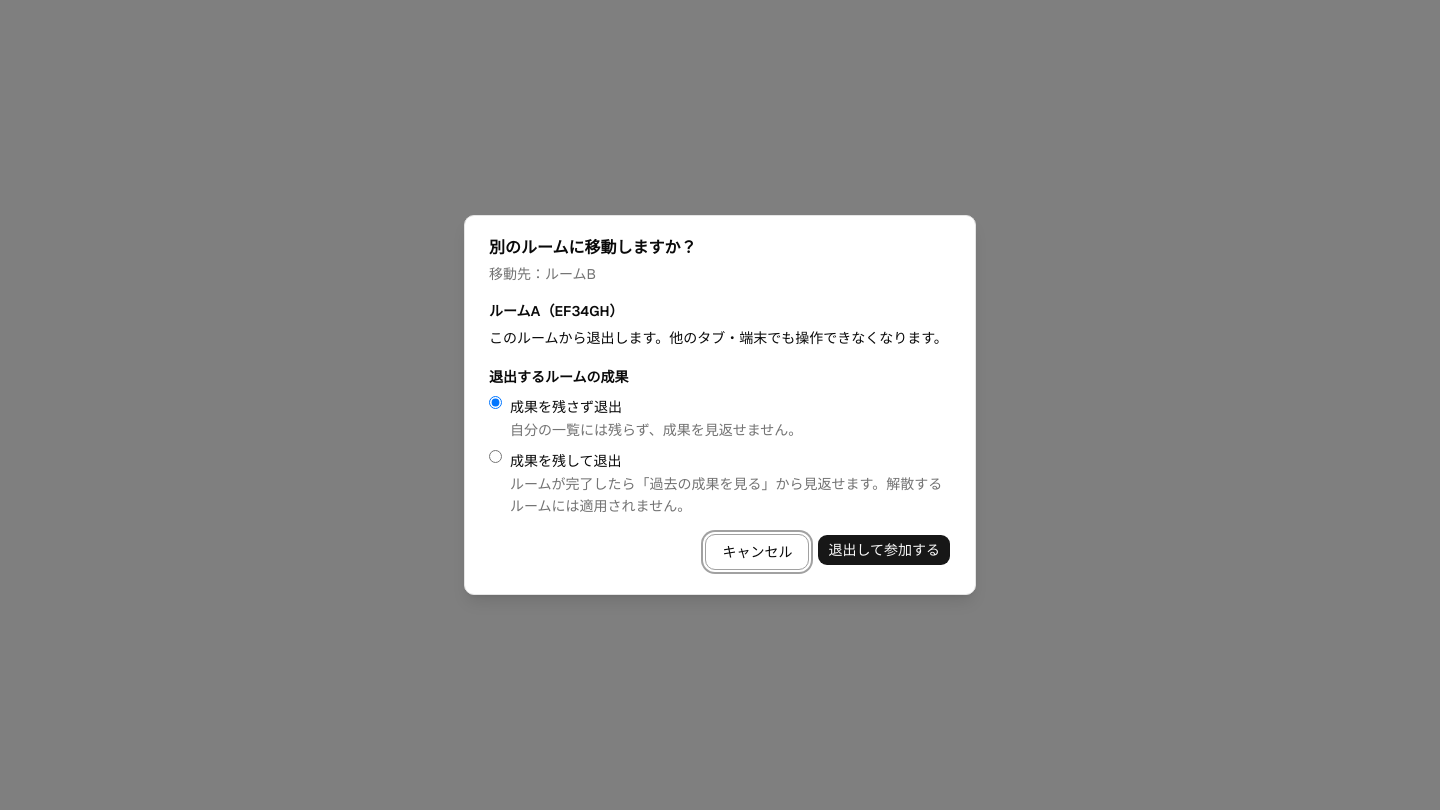
Test case: 参加先の確認 › 確認を開くだけでは退出せず、既定の成果破棄を本人の確定で送る
The width and height of the screenshot is (1440, 810).
Click the button "退出して参加する".
click(884, 550)  # box [817,534,951,566]
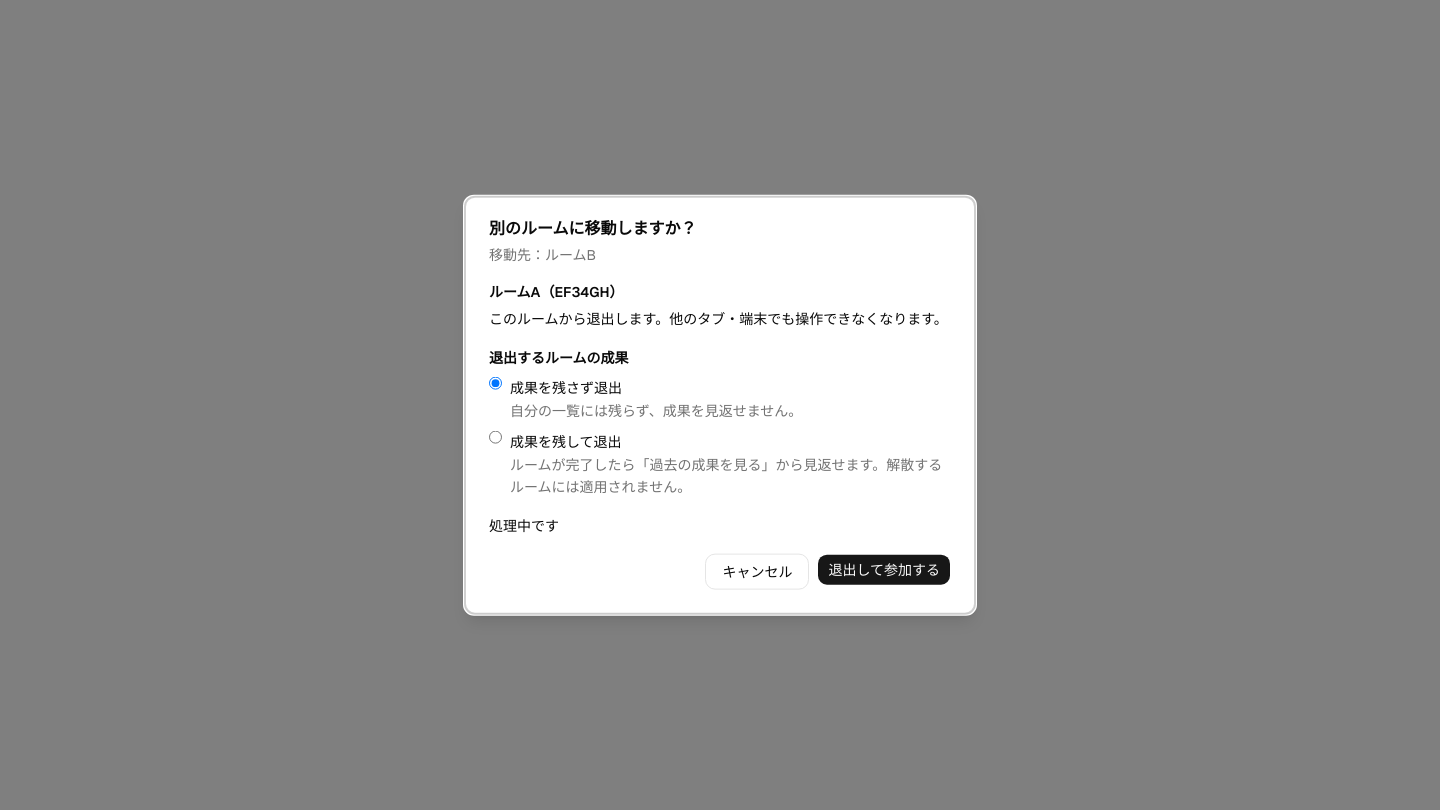
Result: the message reads "処理中です" at [489,517,559,535]
